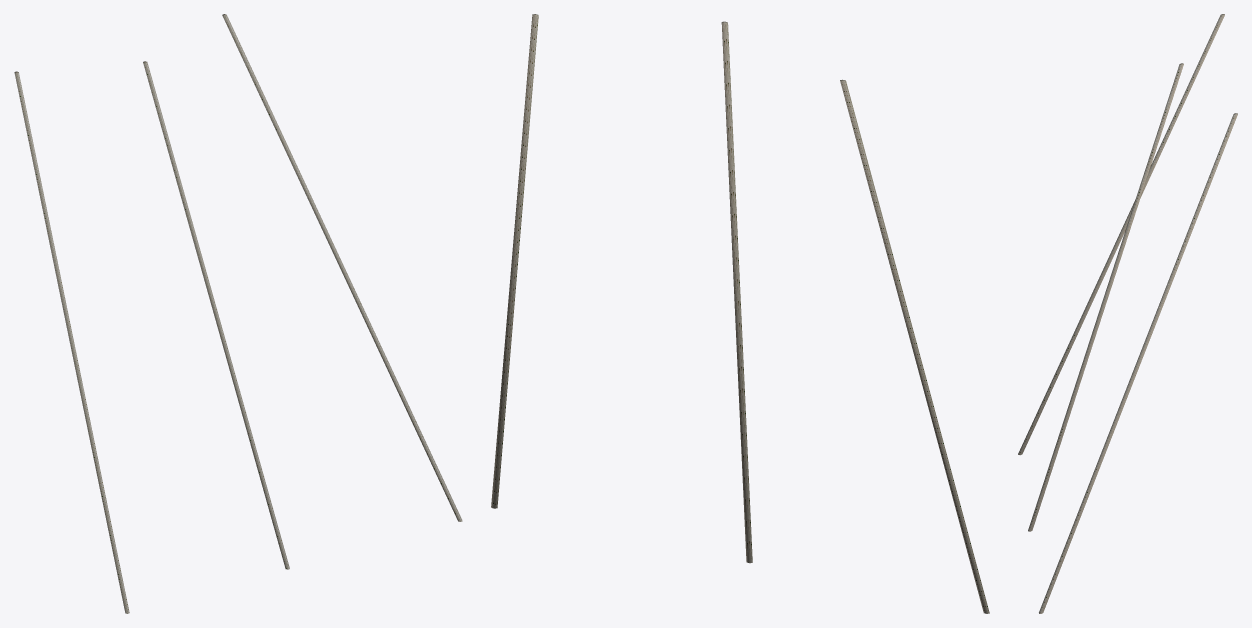
File: sphere.015_lev3.glb
The picture shows the model from 3 angles, left to right: view 1: azimuth 30°, elevation 25°; view 2: azimuth 150°, elevation 25°; view 3: azimuth 270°, elevation 25°; orthographic projection. The views are drawn at different scales.
Parts seen in each view (by area): view 1: sphere.015_lev3; view 2: sphere.015_lev3; view 3: sphere.015_lev3.
Part boxes in pixels (x1,y1,x2,y2): sphere.015_lev3: [14, 14, 462, 613]; sphere.015_lev3: [491, 14, 989, 613]; sphere.015_lev3: [1018, 14, 1237, 613].
Bounding box in the file's own units: 1.05 × 1.31 × 0.598.
1 material, 1 textured.
